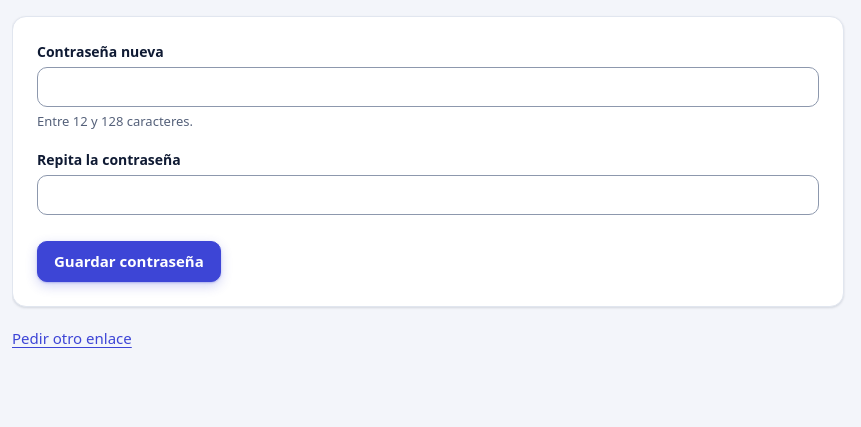
it: Elegir una contraseña nueva › keeps the form when the link no longer works, offering another
The width and height of the screenshot is (861, 427).
Type "la contraseña nueva" into the password field labelled "Contraseña nueva" at (428, 87), box [37, 67, 819, 107]
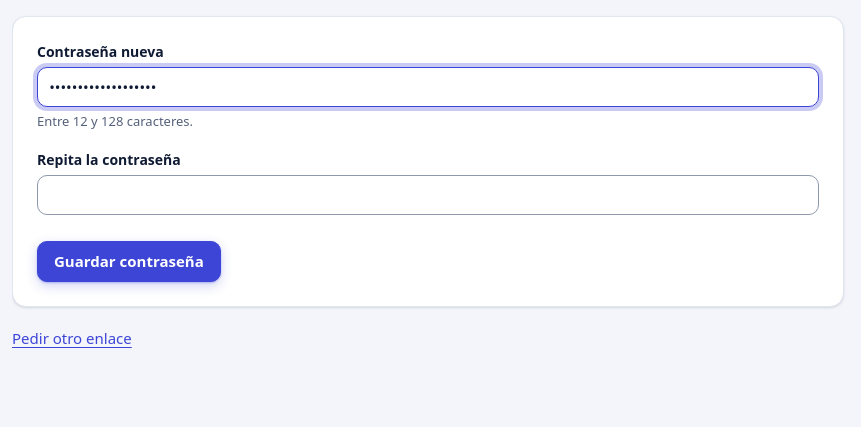
Type "la contraseña nueva" into the password field labelled "Repita la contraseña" at (428, 195), box [37, 175, 819, 216]
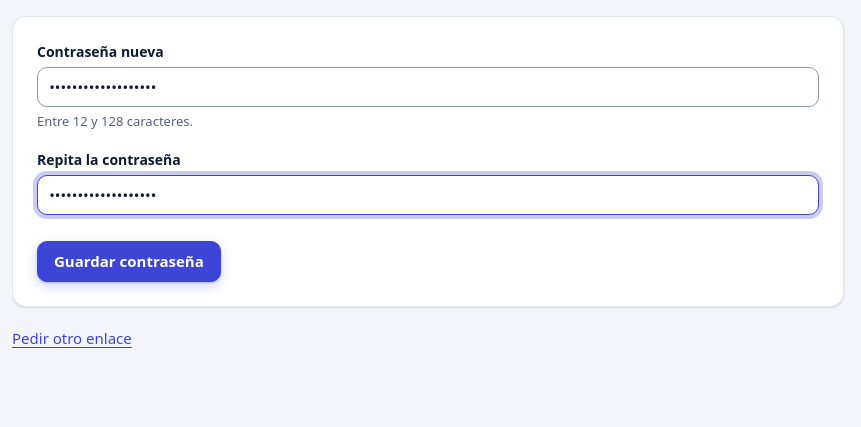
Click the button "Guardar contraseña" at (129, 261), box [37, 241, 221, 282]
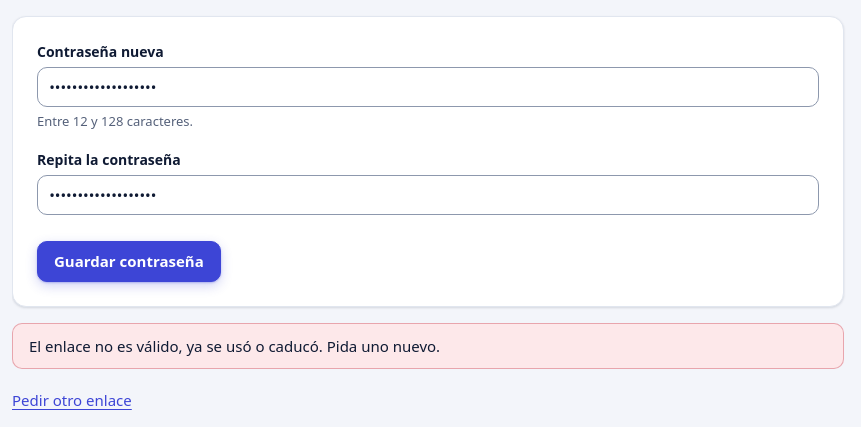
Expected: the message shows "El enlace no es válido", [29, 336, 440, 356]
